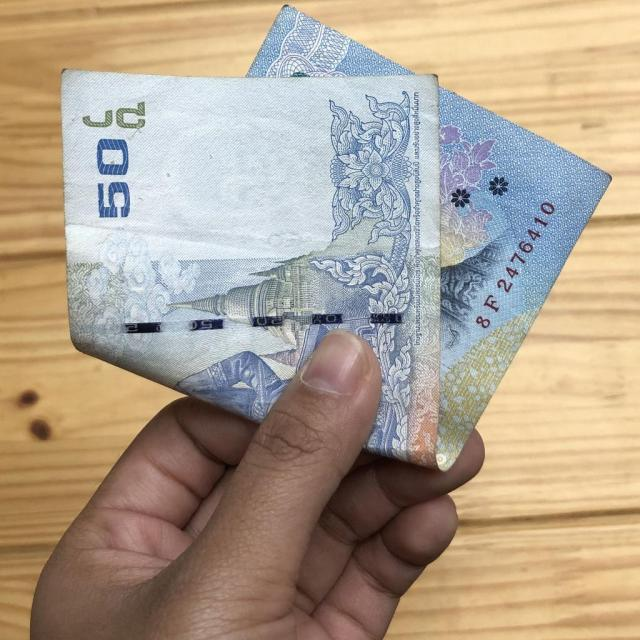THAI50: (61, 6, 609, 469)
